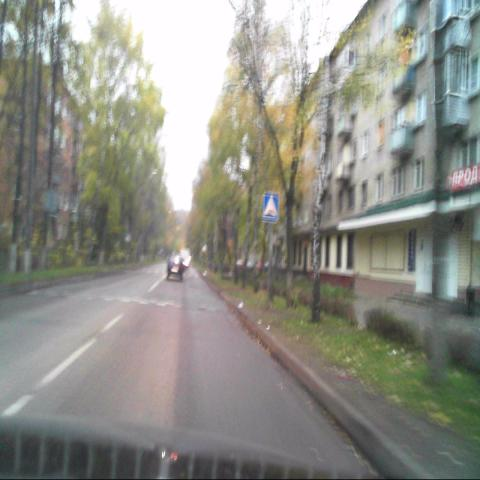5_20: (263, 192, 279, 221)
